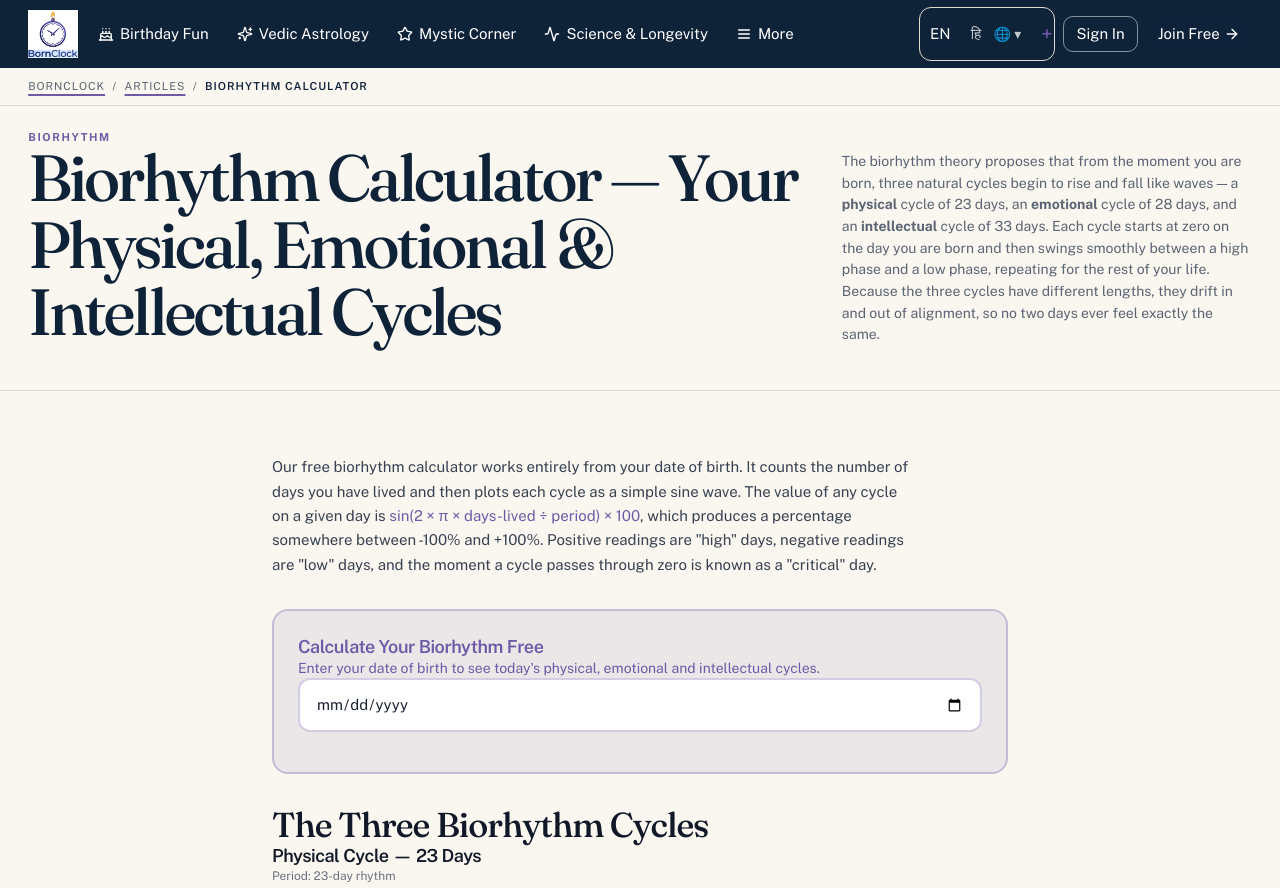
Test case: BiorhythmArticle › TC-BIO-P-06: entering DOB shows result with a number
Type "1990-05-15" into the date field named "Enter your date of birth" at point(640, 705), box left=298, top=678, right=982, bottom=732
(page scrolled)
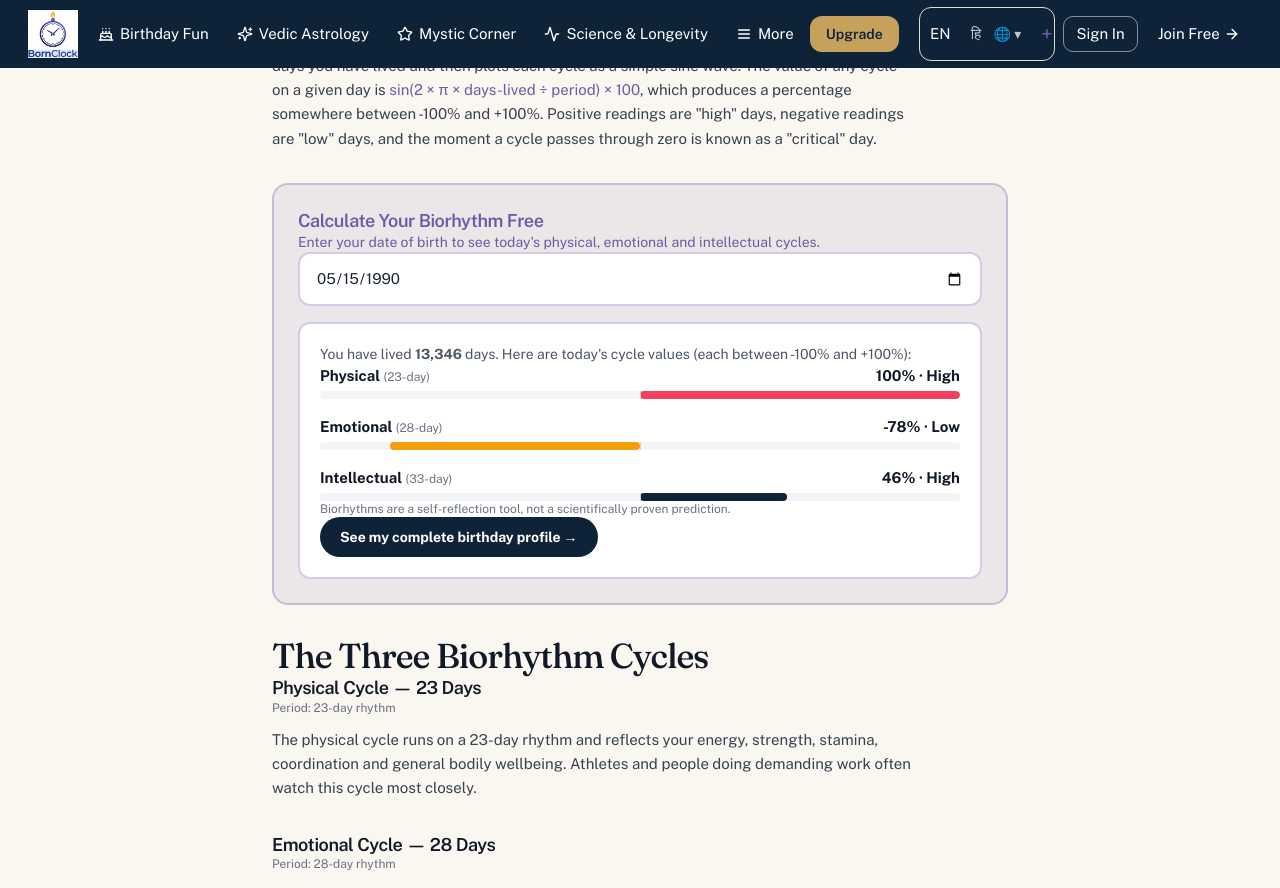
Expected: the element with test id "biorhythm-result" is shown, left=298, top=322, right=982, bottom=580
